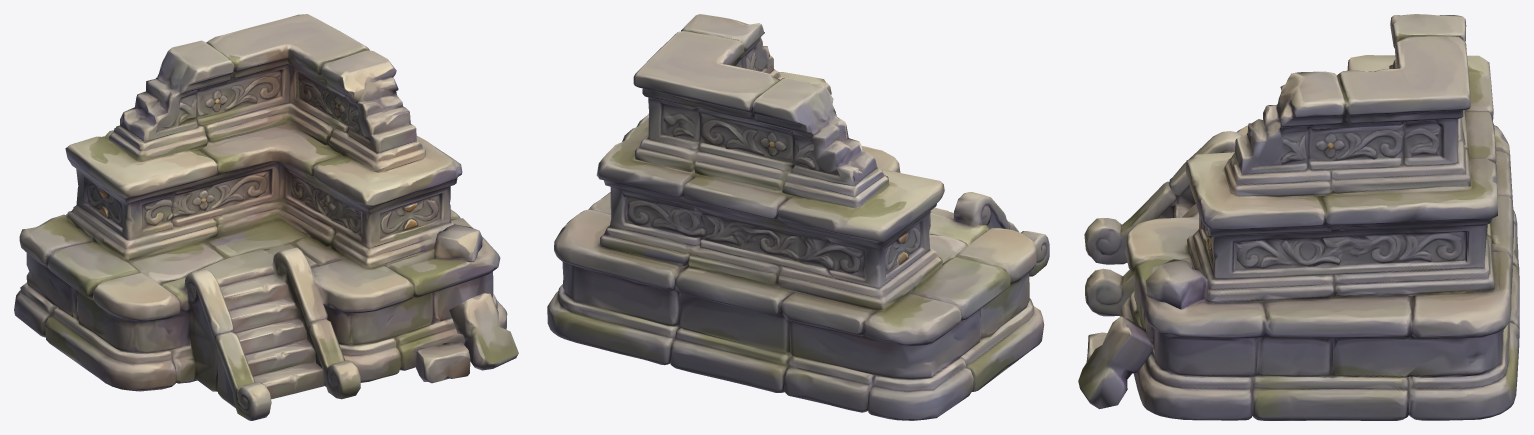
File: terrace-corner.glb
3 renders of one model, left to right at view 1: azimuth 30°, elevation 25°; view 2: azimuth 150°, elevation 25°; view 3: azimuth 270°, elevation 25°, orthographic. The views are drawn at different scales.
Parts seen in each view (by area): view 1: terrace_corner; view 2: terrace_corner; view 3: terrace_corner.
Part boxes in pixels (x1,y1,x2,y2): terrace_corner: [14, 14, 518, 420]; terrace_corner: [547, 14, 1049, 420]; terrace_corner: [1078, 14, 1519, 420].
Size of the model in its own units: 4.68 by 3 by 4.19.
Materials: 1 (1 with a texture image).
